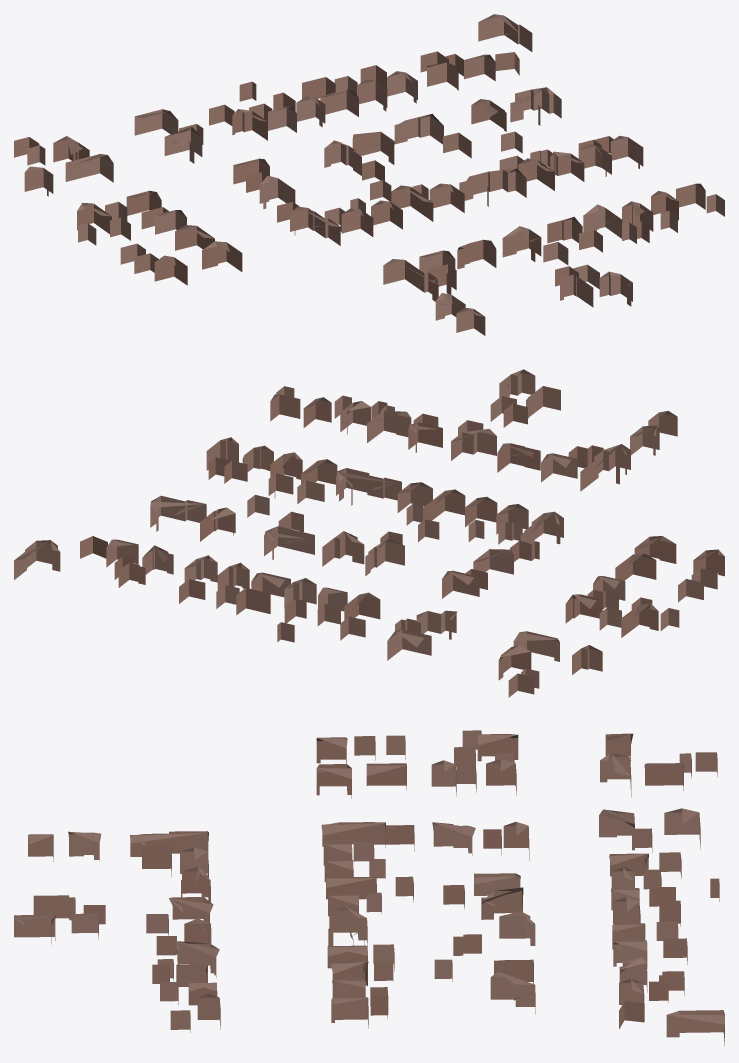
Rendered from c_1646_17826_buildings_residential.glb.
The picture shows the model from 3 angles, top to bottom: view 1: azimuth 30°, elevation 25°; view 2: azimuth 150°, elevation 25°; view 3: azimuth 270°, elevation 25°; orthographic projection. The views are drawn at different scales.
Parts seen in each view (by area): view 1: geometry_0; view 2: geometry_0; view 3: geometry_0.
Part boxes in pixels (left/top/right/bottom): geometry_0: left=14, top=14, right=724, bottom=335; geometry_0: left=14, top=369, right=724, bottom=697; geometry_0: left=14, top=730, right=724, bottom=1046.
Size of the model in its own units: 266 by 10.94 by 267.
